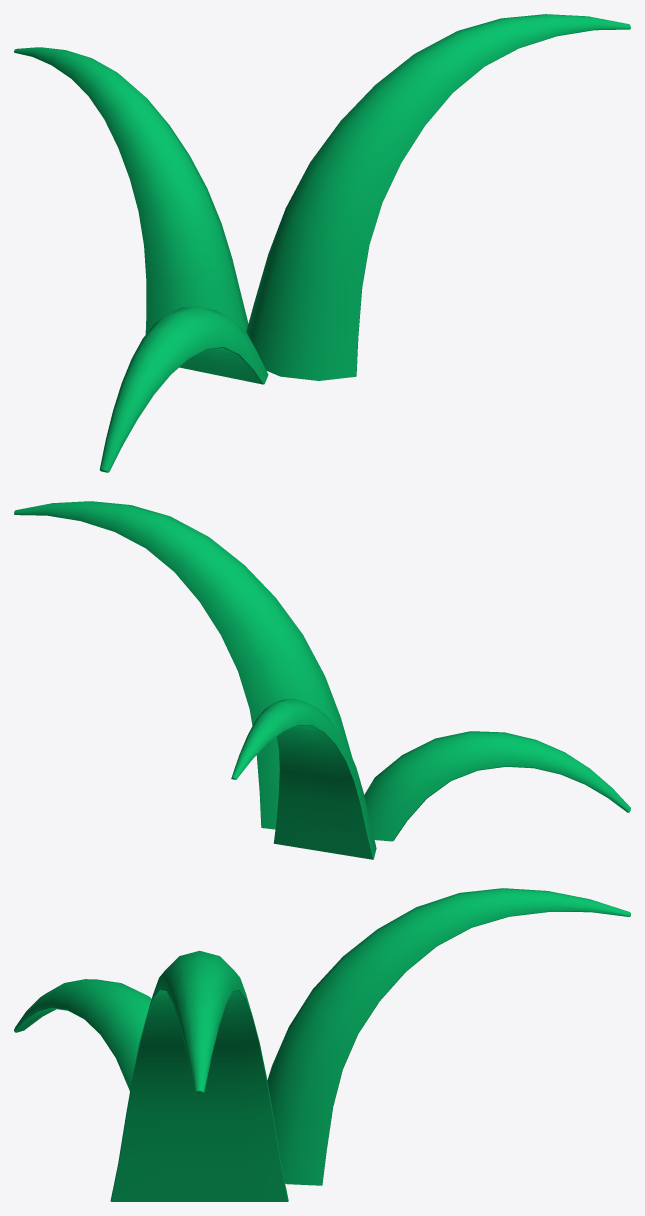
Rendered from City_10_Grass_2.glb.
3 views of the same model, one above another, from view 1: azimuth 30°, elevation 25°; view 2: azimuth 150°, elevation 25°; view 3: azimuth 270°, elevation 25° (orthographic). The views are drawn at different scales.
Parts seen in each view (by area): view 1: City_10_Grass_2; view 2: City_10_Grass_2; view 3: City_10_Grass_2.
Boxes of the visible parts, left/top/right/bottom form: City_10_Grass_2: left=14, top=14, right=630, bottom=472; City_10_Grass_2: left=14, top=501, right=630, bottom=859; City_10_Grass_2: left=14, top=888, right=630, bottom=1201.
Size of the model in its own units: 1.36 by 0.6069 by 1.03.
Materials: 1 (1 with a texture image).
